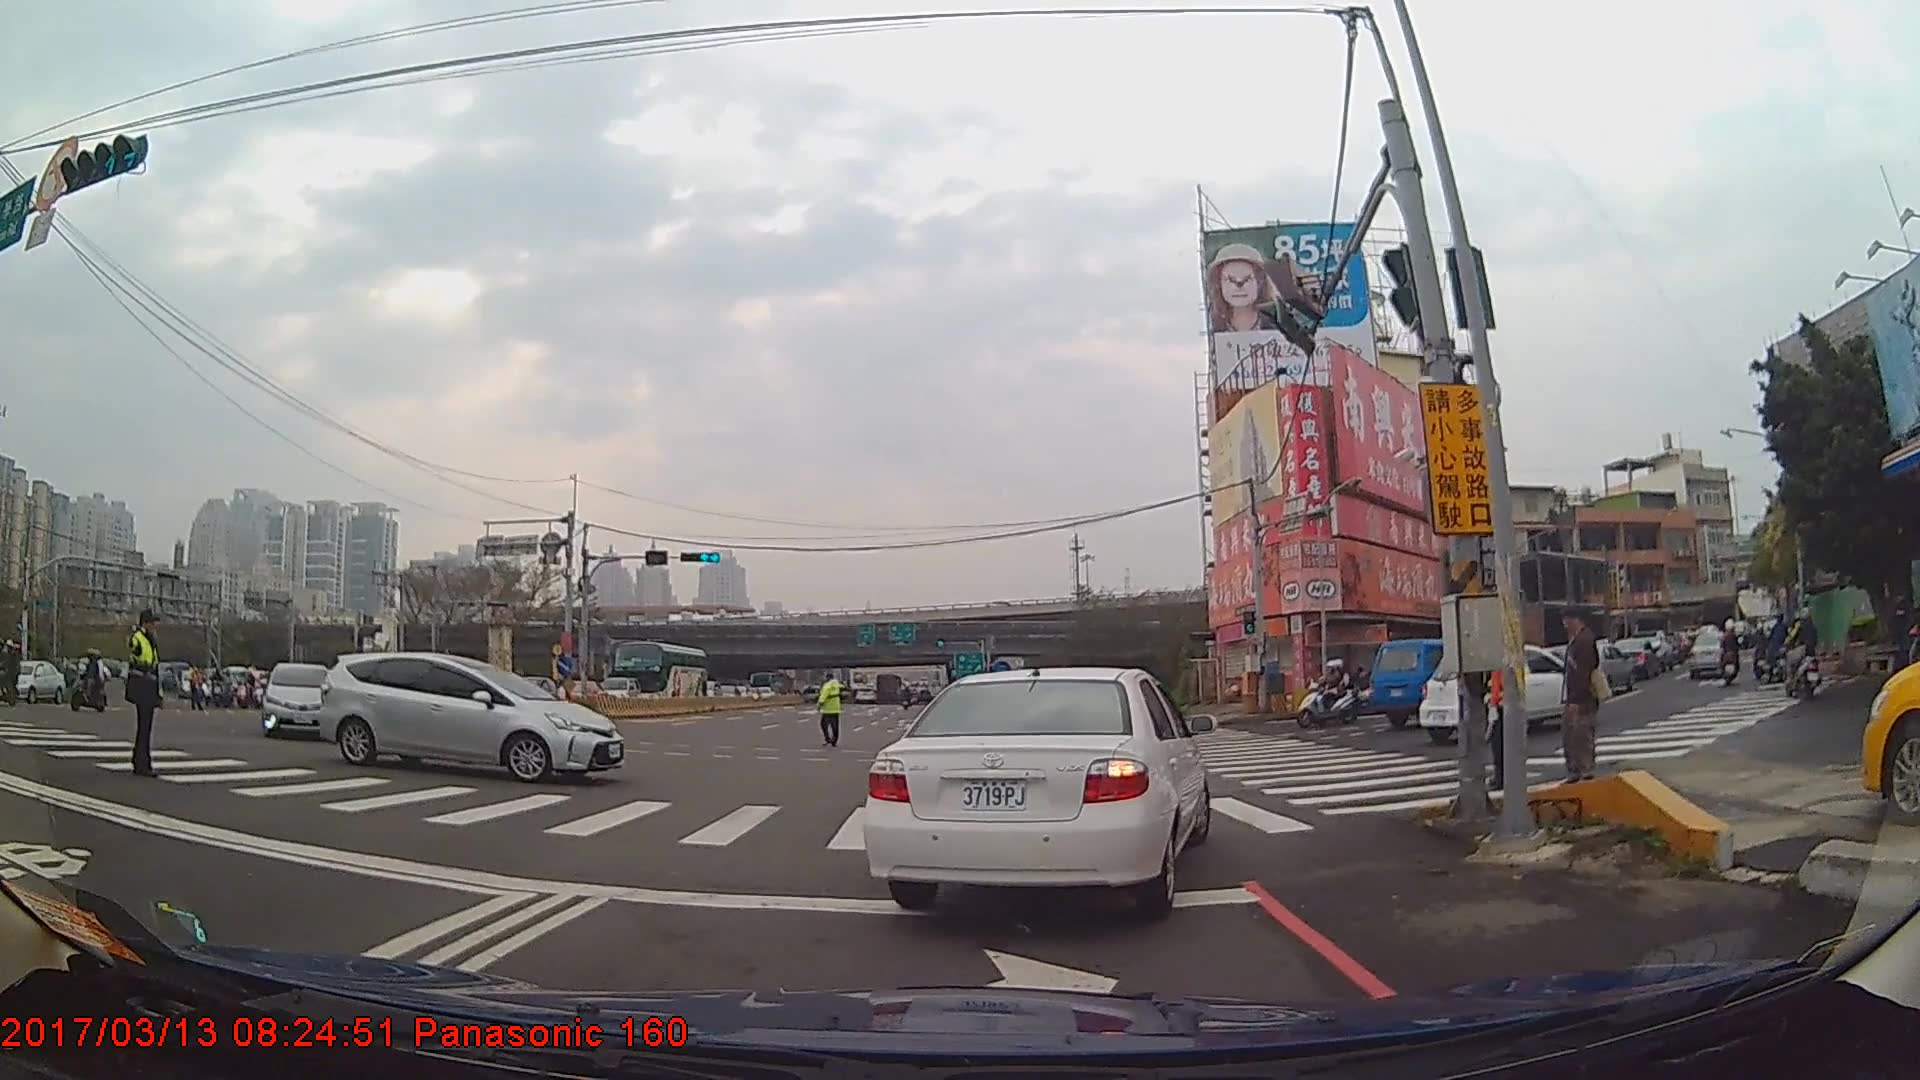pedestrian: (1556, 604, 1612, 785), (112, 606, 167, 780), (814, 669, 846, 751)
rider: (1297, 660, 1360, 732), (1781, 608, 1824, 699), (72, 649, 108, 713), (1717, 621, 1745, 687), (1770, 617, 1795, 686), (1, 642, 24, 704), (1751, 620, 1772, 680)
vehicle: (863, 665, 1214, 908), (319, 649, 630, 782), (1416, 644, 1593, 743), (1371, 635, 1534, 729), (606, 637, 707, 708), (263, 659, 344, 738), (5, 655, 60, 704), (1685, 627, 1736, 678), (1609, 637, 1659, 679)
